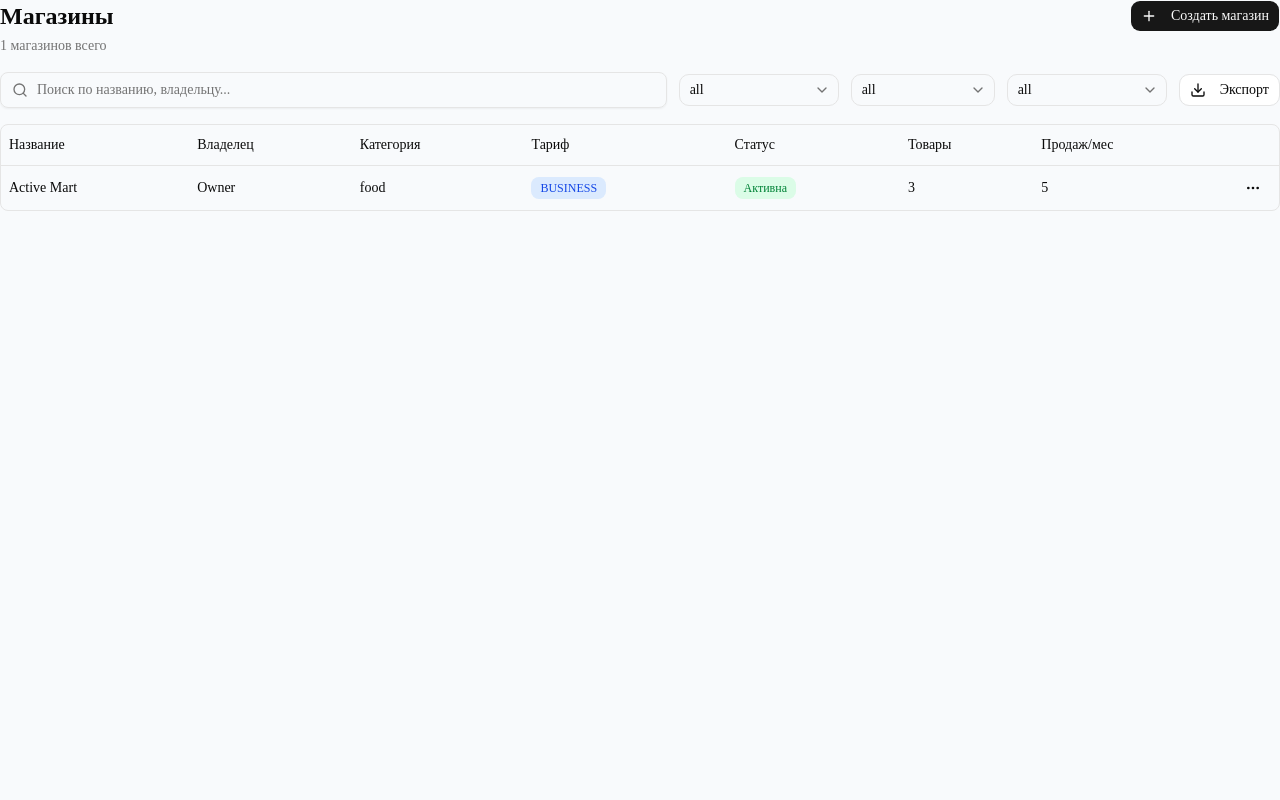
StoresPage — create store for an existing user › shows a server validation error inline instead of only as a toast
Click the button "Создать магазин" at point(1205, 16), box x1=1130 y1=0 x2=1279 y2=32
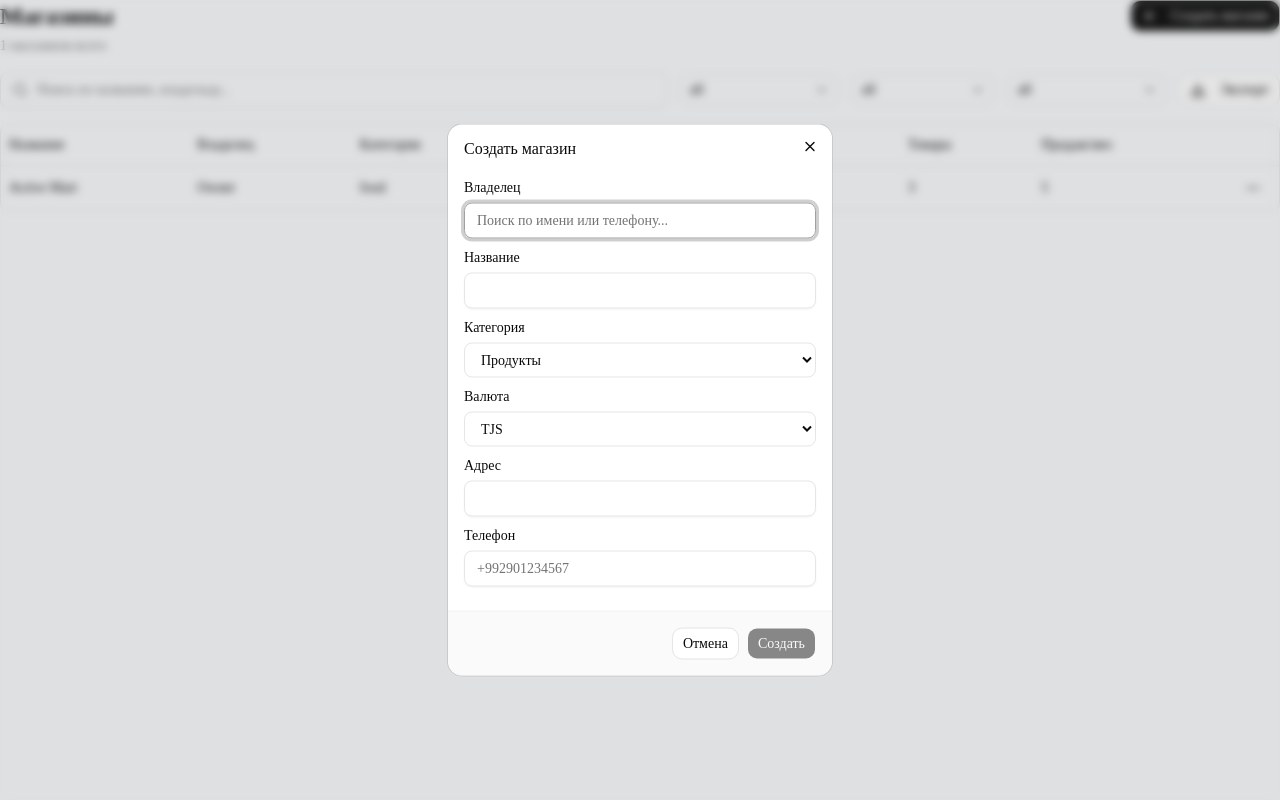
Type "Новый магазин" into the field labelled "Название" at point(640, 290), box x1=464 y1=272 x2=816 y2=308
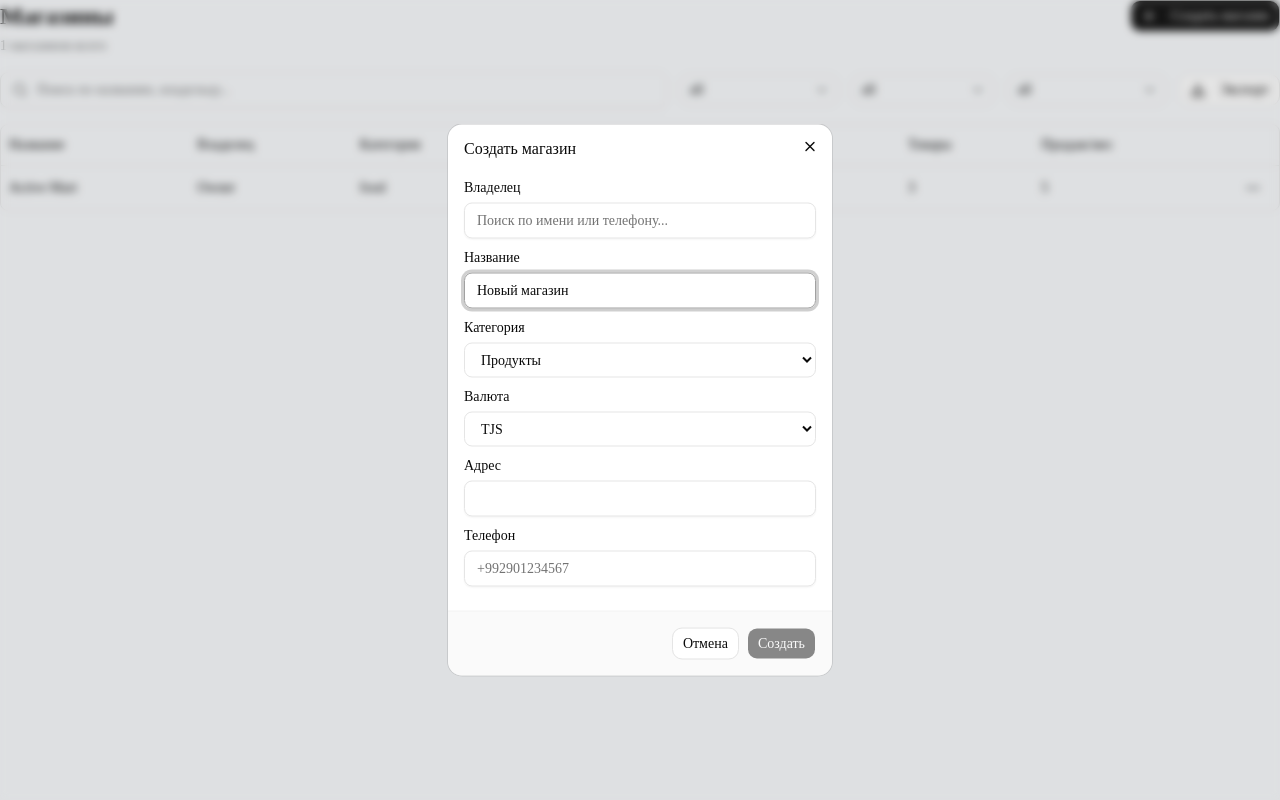
Type "+992901234567" into the field with placeholder "Поиск по имени или телефону..." at point(640, 220), box x1=464 y1=202 x2=816 y2=238
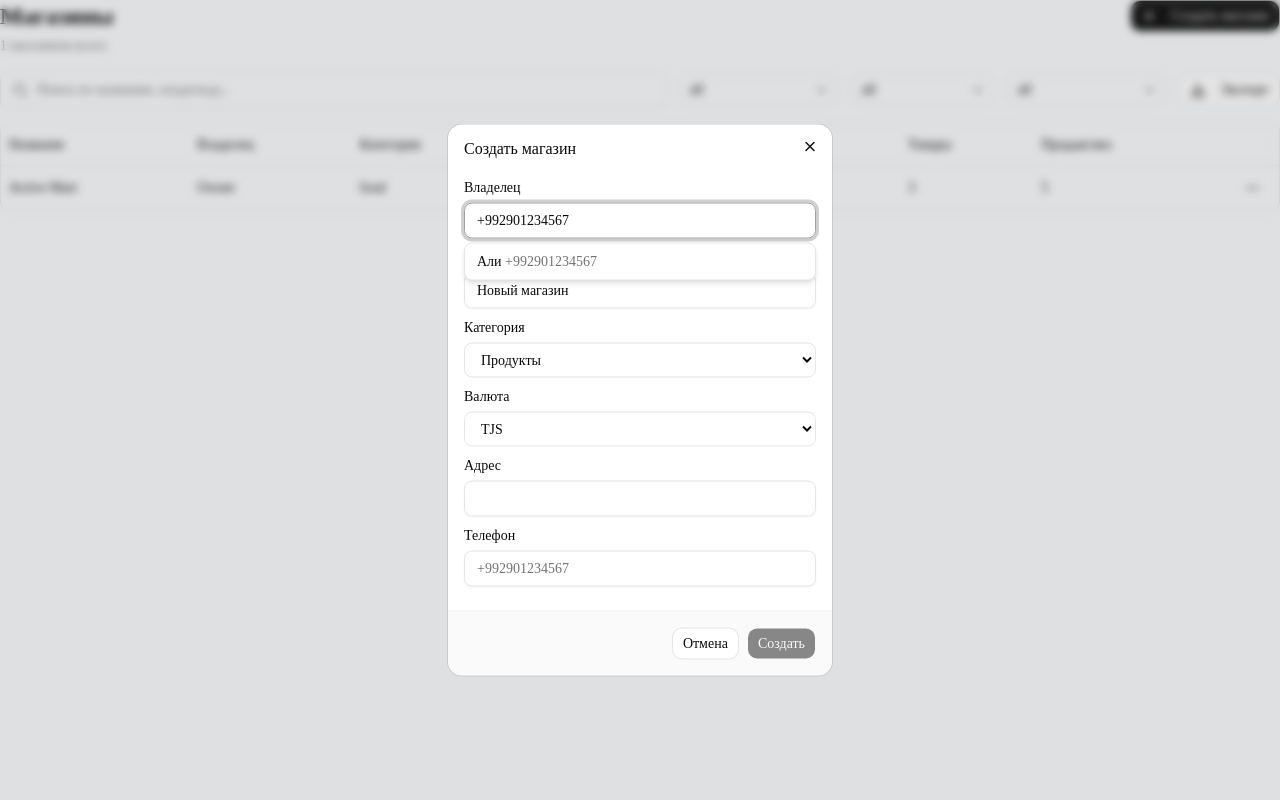
Click the button "Али +992901234567" at point(551, 261), box x1=465 y1=244 x2=815 y2=280
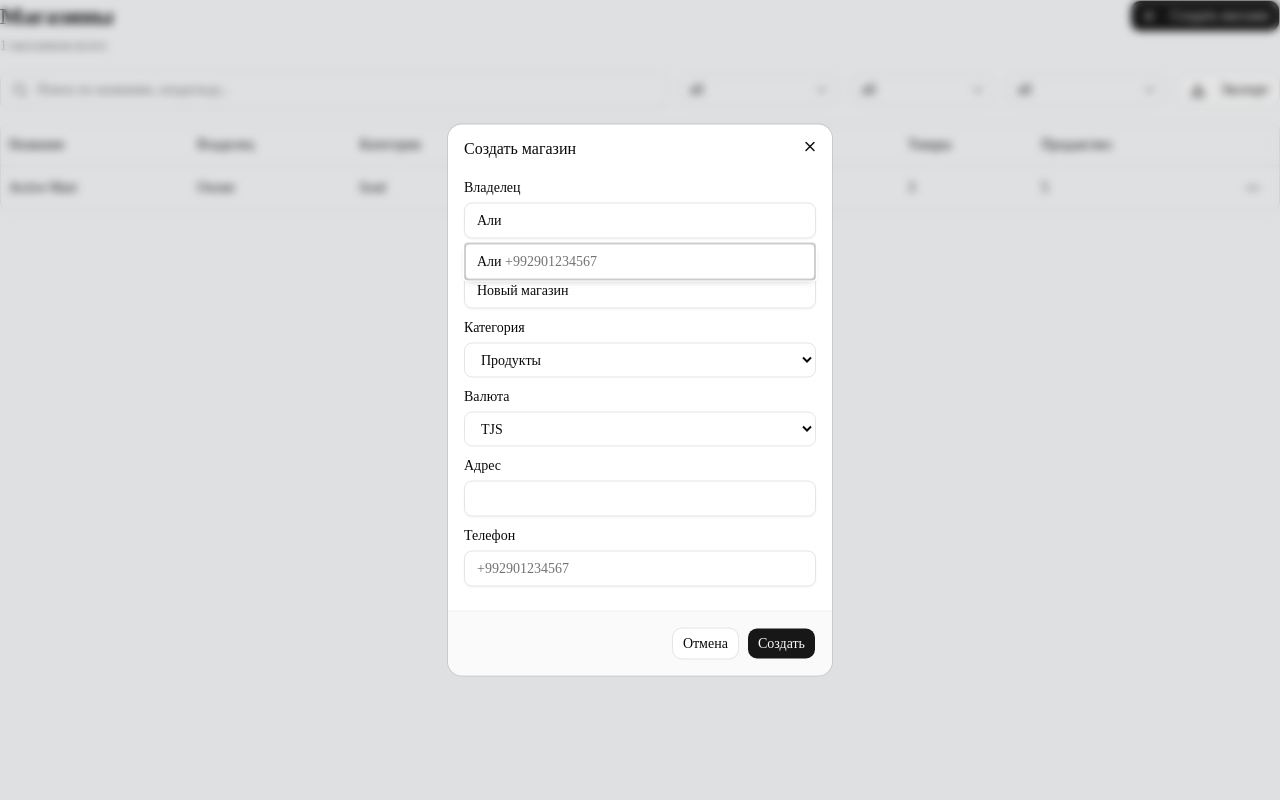
Click the button "Создать" at point(781, 644), box x1=747 y1=628 x2=816 y2=660
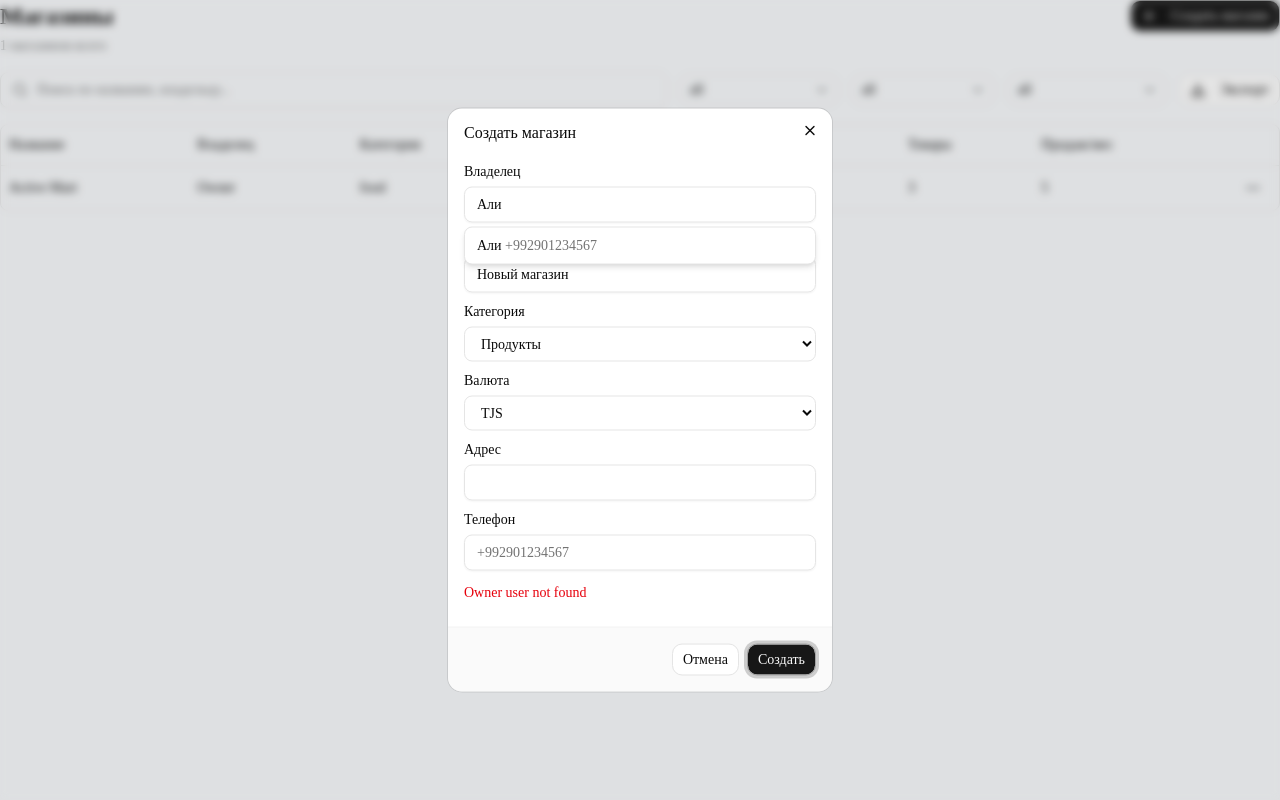
expect the button "Создать" is shown: met, box x1=747 y1=644 x2=816 y2=676
expect the text "Owner user not found" is shown: met, box x1=464 y1=584 x2=586 y2=600
